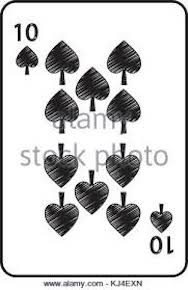TenOfSpades: (2, 1, 188, 281)
